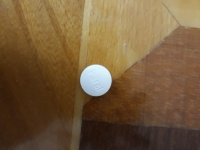Parol: (79, 64, 113, 98)
